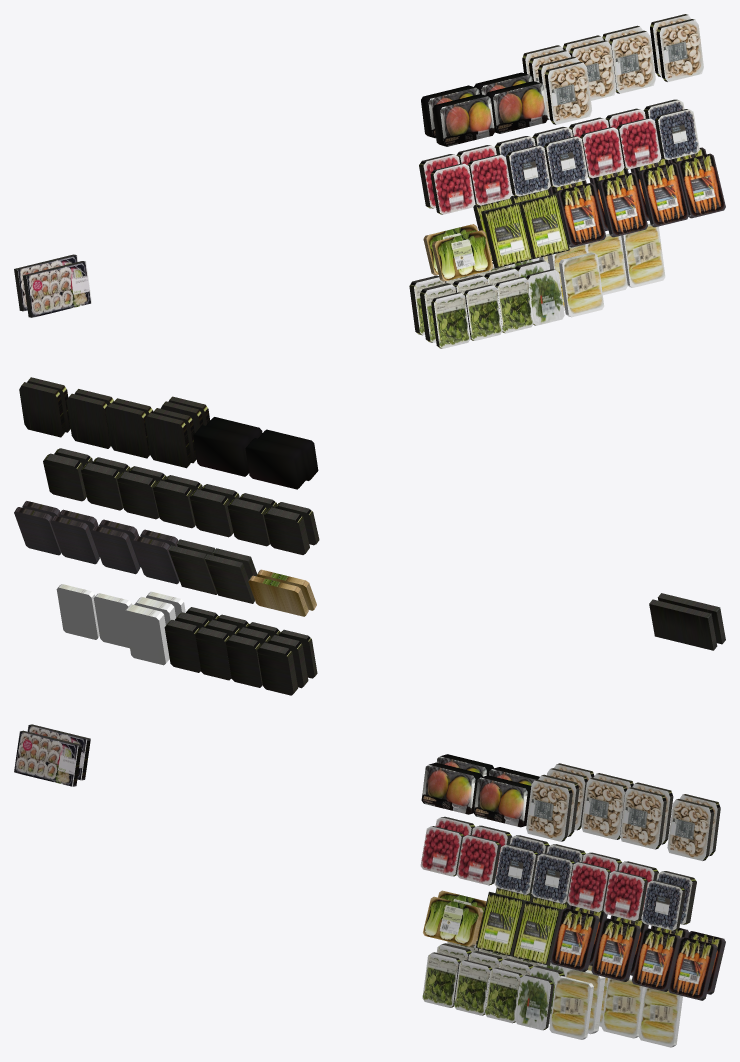
File: supermarket_group_08_lev1.glb
The picture shows the model from 3 angles, top to bottom: view 1: azimuth 30°, elevation 25°; view 2: azimuth 150°, elevation 25°; view 3: azimuth 330°, elevation 25°; orthographic projection.
Parts seen in each view (by area): view 1: supermarket_group_08_lev1; view 2: supermarket_group_08_lev1; view 3: supermarket_group_08_lev1.
Boxes of the visible parts, x1,y1,x2,y2 form: supermarket_group_08_lev1: (14,14,725,348); supermarket_group_08_lev1: (14,377,725,695); supermarket_group_08_lev1: (14,724,725,1047).
Bounding box in the file's own units: 6.24 × 2.17 × 0.5752.
Materials: 1 (1 with a texture image).
